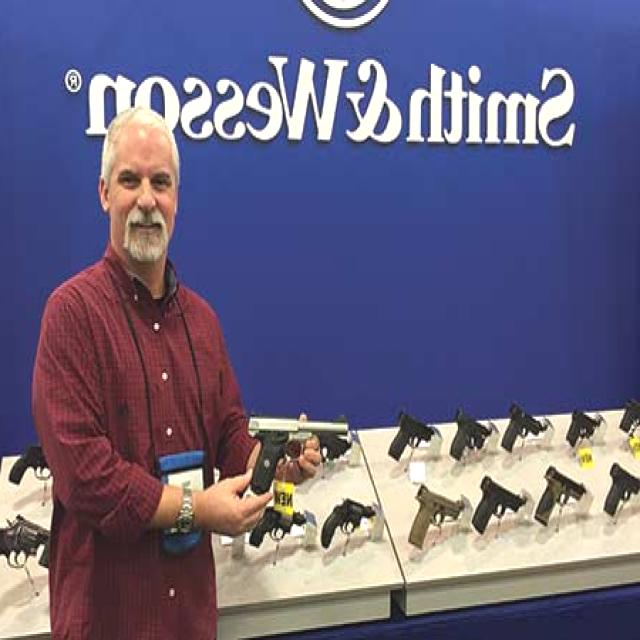pistol: (250, 406, 354, 486), (397, 482, 475, 544), (3, 504, 54, 580), (467, 466, 526, 528), (532, 464, 590, 526), (321, 490, 380, 550), (8, 426, 56, 484), (390, 408, 441, 462), (500, 402, 550, 454), (250, 500, 309, 544), (452, 407, 495, 462), (603, 462, 640, 522), (568, 406, 604, 441)
